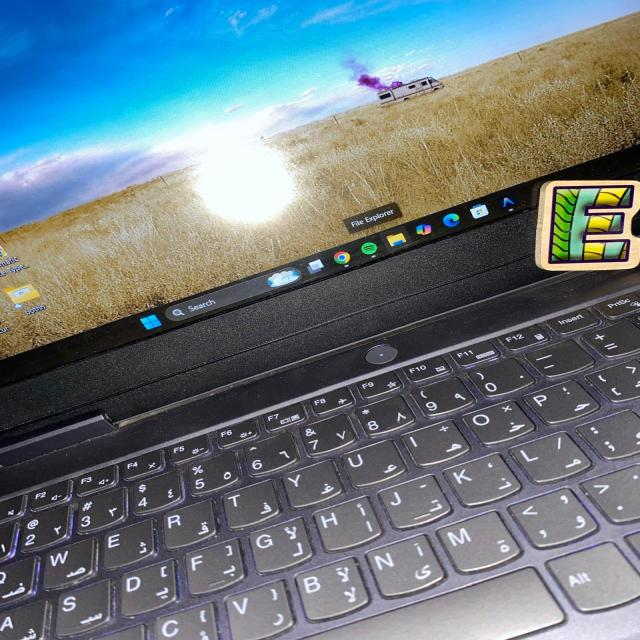E: (536, 180, 639, 270)
